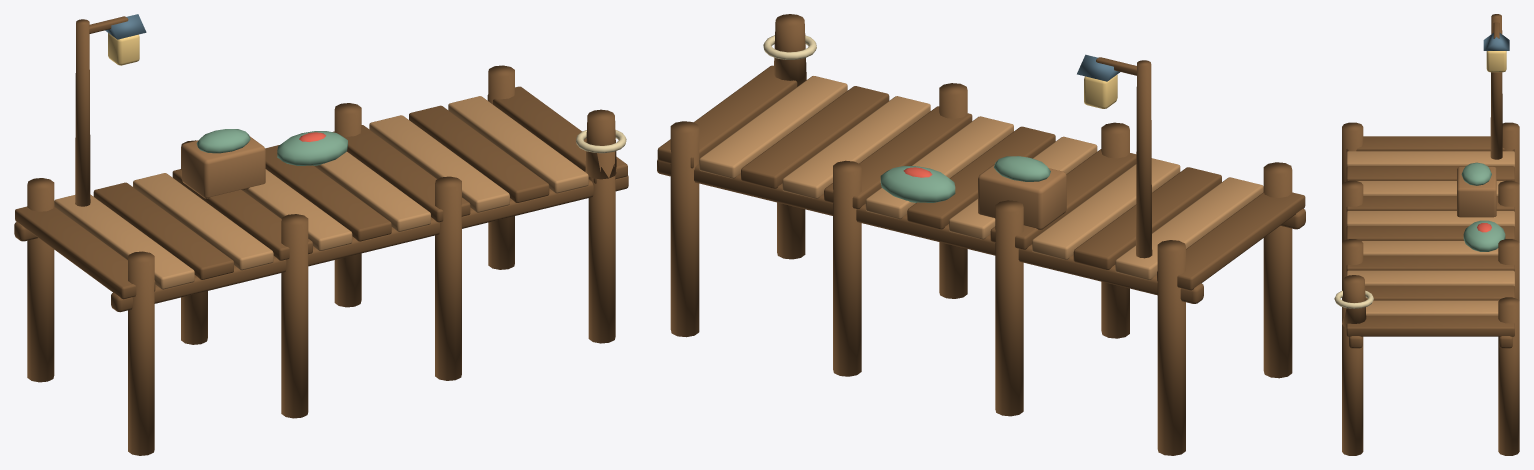
The model's file is fish-dock.glb.
The picture shows the model from 3 angles, left to right: view 1: azimuth 30°, elevation 25°; view 2: azimuth 150°, elevation 25°; view 3: azimuth 270°, elevation 25°; orthographic projection. The views are drawn at different scales.
Visible parts, largest first — view 1: dock, props, lamp; view 2: dock, props, lamp; view 3: dock, props, lamp.
Part boxes in pixels (left/top/right/bottom): dock: left=14, top=65, right=628, bottom=455; props: left=181, top=129, right=347, bottom=198; lamp: left=75, top=14, right=146, bottom=206; dock: left=657, top=14, right=1305, bottom=455; props: left=880, top=156, right=1066, bottom=229; lamp: left=1077, top=54, right=1152, bottom=258; dock: left=1334, top=122, right=1519, bottom=455; props: left=1457, top=162, right=1505, bottom=251; lamp: left=1483, top=14, right=1509, bottom=159.
Bounding box in the file's own units: 3 × 1.97 × 1.21.
